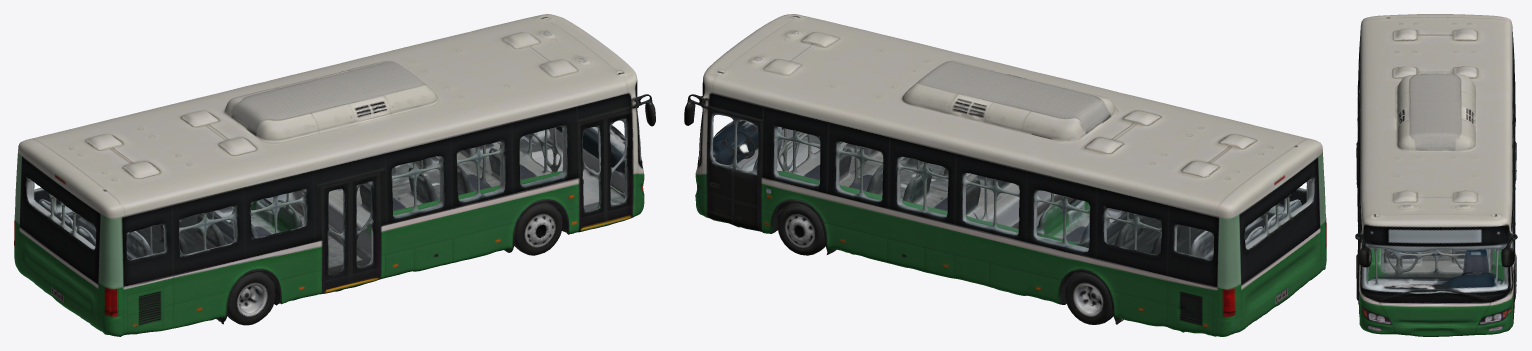
File: bus.fbx
The picture shows the model from 3 angles, left to right: view 1: azimuth 30°, elevation 25°; view 2: azimuth 150°, elevation 25°; view 3: azimuth 270°, elevation 25°; orthographic projection. The views are drawn at different scales.
Parts seen in each view (by area): view 1: tripo_node_c66a0788; view 2: tripo_node_c66a0788; view 3: tripo_node_c66a0788.
Part boxes in pixels (<box>): tripo_node_c66a0788: <box>14,14,655,336</box>; tripo_node_c66a0788: <box>684,14,1326,336</box>; tripo_node_c66a0788: <box>1355,14,1517,336</box>.
Bounding box in the file's own units: 97.95 × 29.04 × 31.36.
1 material, 1 textured.
